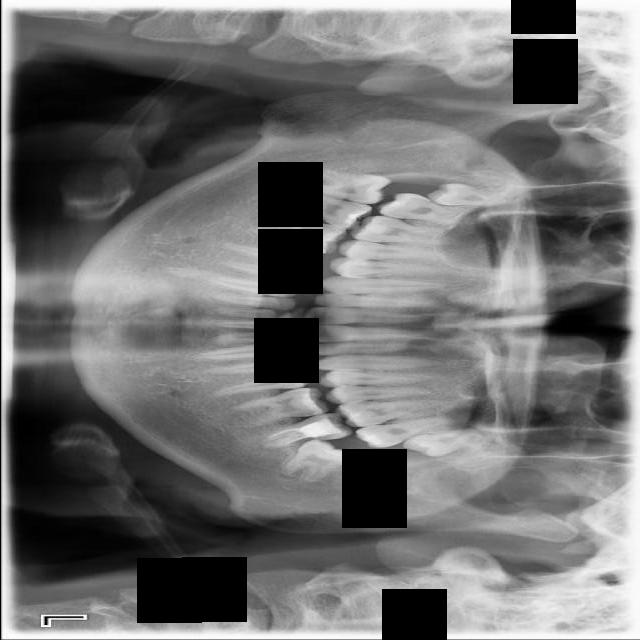3M ESPE Implant: (425, 182, 509, 207)
73: (257, 418, 322, 451), (58, 604, 68, 610)
BioHorizons Implant: (354, 415, 458, 451)
BioLife Implant: (399, 423, 496, 463)
Biomet 3i Implant: (272, 421, 361, 497)
Blue Sky Bio Implant: (257, 409, 354, 452)
Caries: (374, 190, 484, 229)
Implant: (277, 189, 373, 234)
Keystone Dental Implant: (298, 164, 391, 208)
